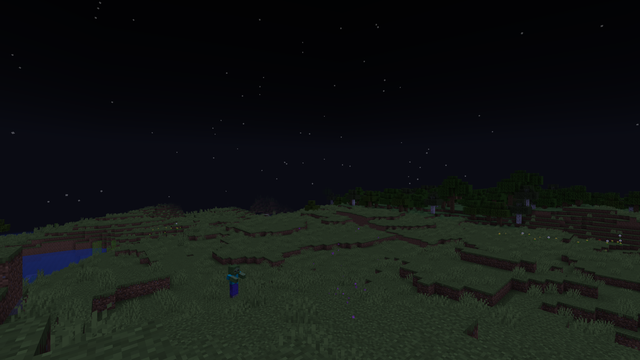zombies: (227, 264, 239, 298)
